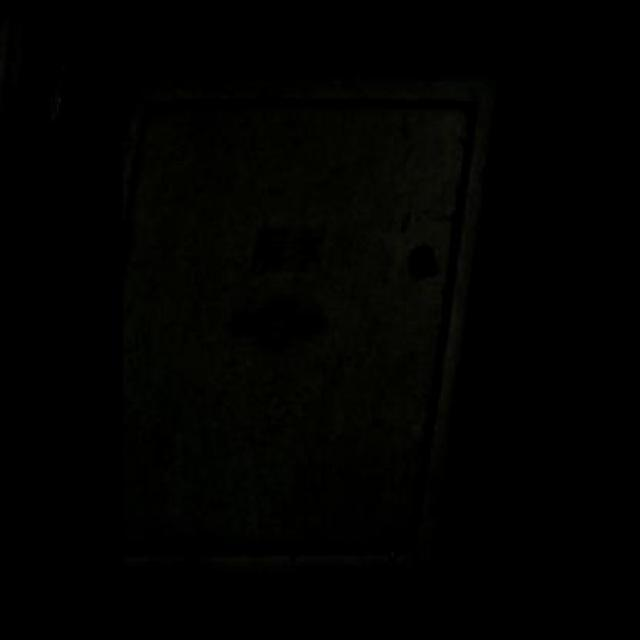Manhole: (124, 76, 508, 578)
